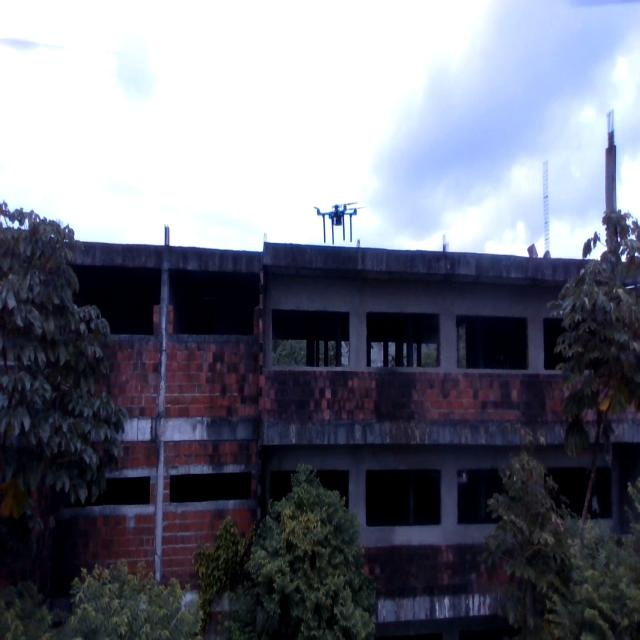-uav-: (297, 186, 383, 253)
